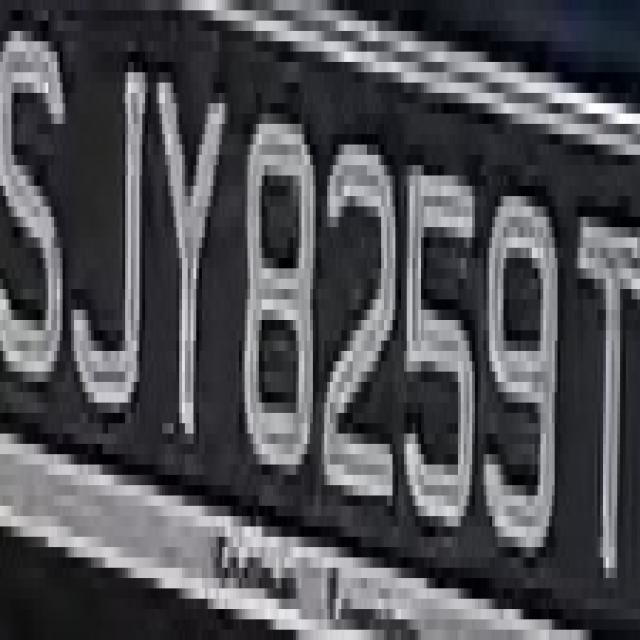2: (322, 72, 396, 526)
5: (395, 114, 478, 578)
8: (239, 72, 321, 516)
9: (478, 155, 557, 619)
J: (62, 41, 150, 424)
S: (12, 51, 68, 444)
T: (563, 176, 632, 598)
Y: (157, 41, 236, 475)
